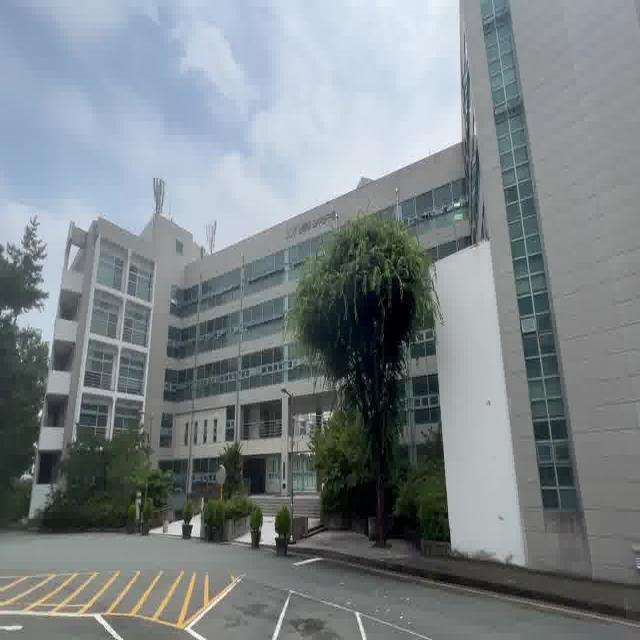building: (50, 172, 299, 424)
